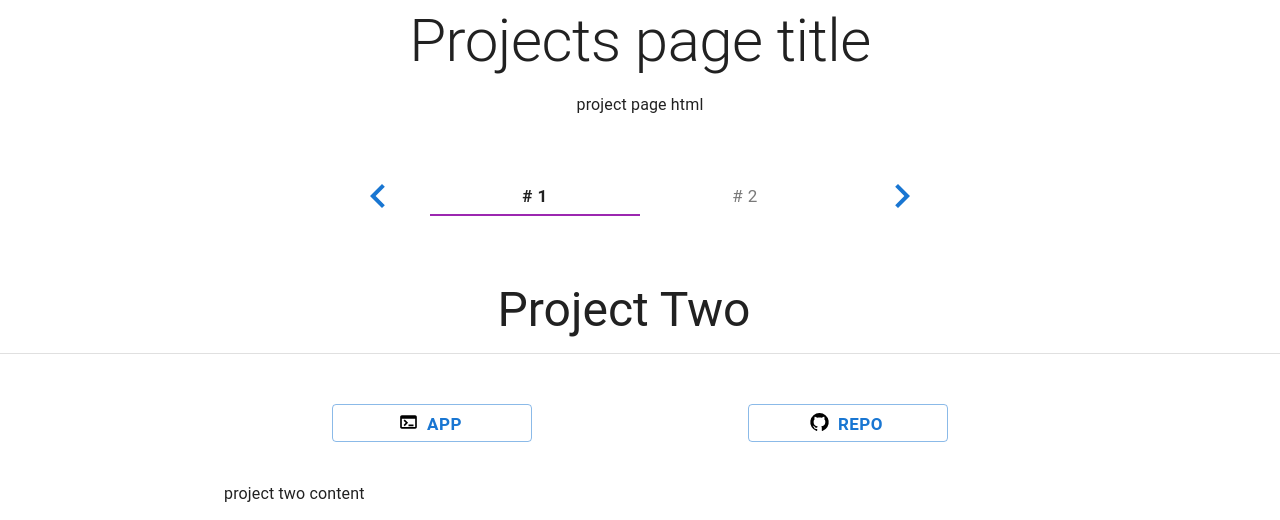
projects page › projects respect the order property
Expected: the heading "Project Two" is shown, [498,282,750,338]
Expected: the text "project two content" is shown, [224,484,365,503]
Click the tab "# 2" at (745, 196), box [640,176,850,216]
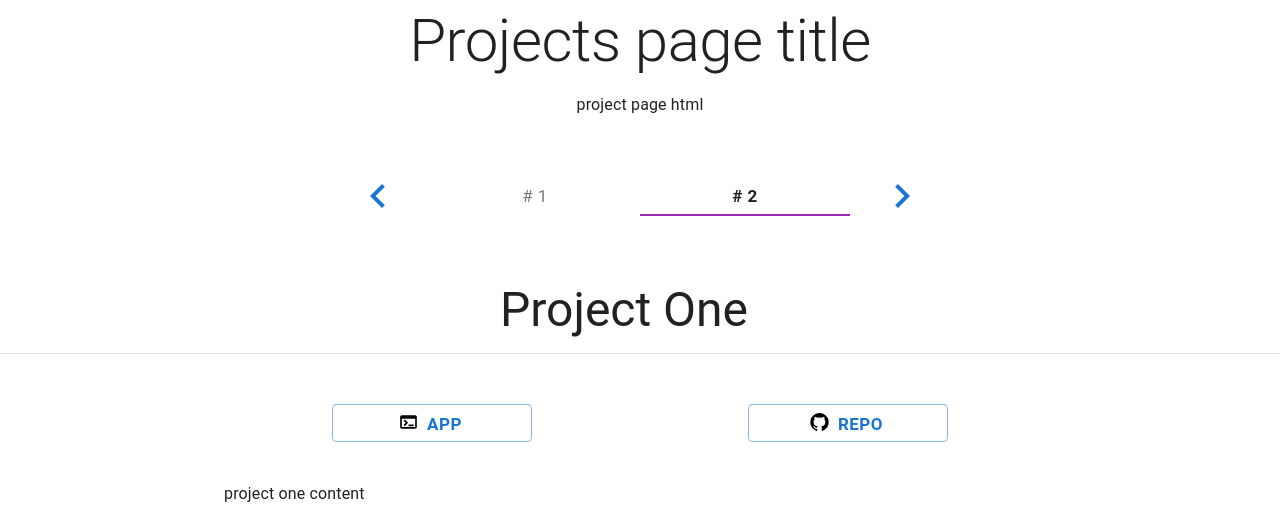
Now the heading "Project One" is shown, box [500,282,748,338]
Now the text "project one content" is shown, box [224,484,365,503]
